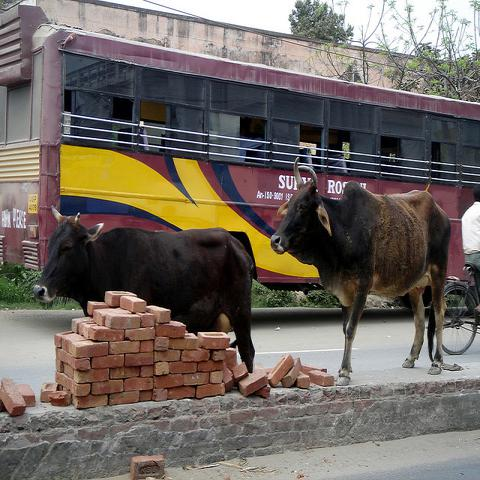bus: (1, 0, 478, 291)
